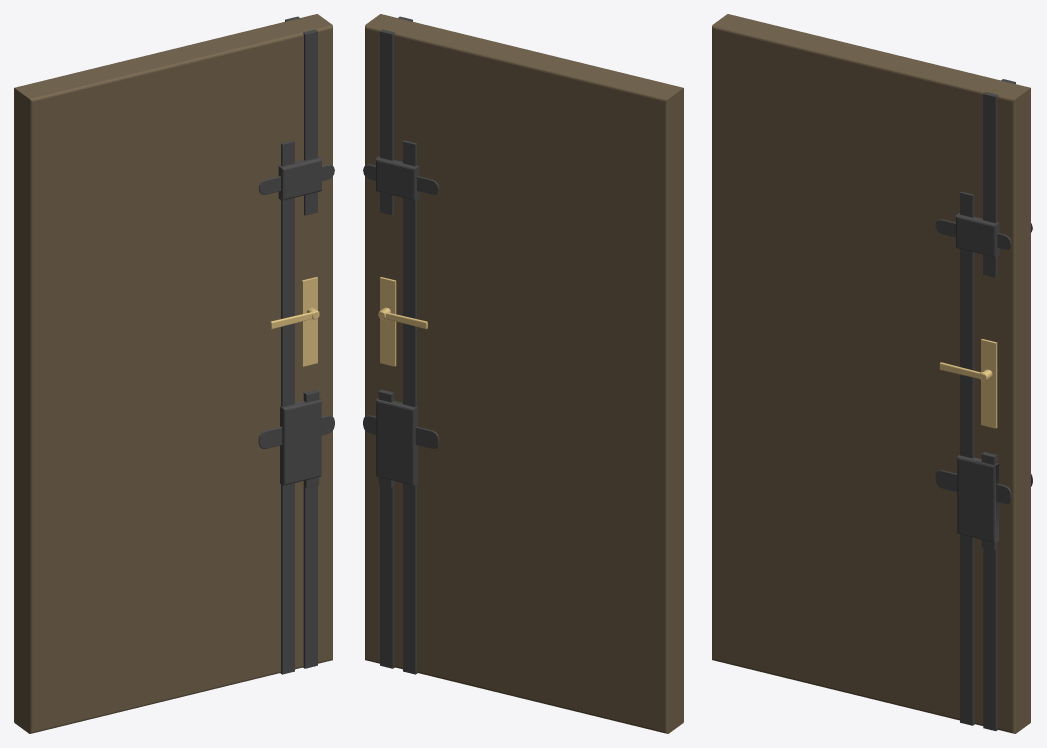
Rendered from Basement_Door_Rework.fbx.
3 views of the same model, side by side, from view 1: azimuth 30°, elevation 25°; view 2: azimuth 150°, elevation 25°; view 3: azimuth 330°, elevation 25° (orthographic).
Visible parts, largest first — view 1: Basement_Door; view 2: Basement_Door; view 3: Basement_Door.
Boxes of the visible parts, <box> form: Basement_Door: <box>14,14,334,733</box>; Basement_Door: <box>363,14,683,733</box>; Basement_Door: <box>712,14,1032,733</box>.
Size of the model in its own units: 1 by 2 by 0.1765.
